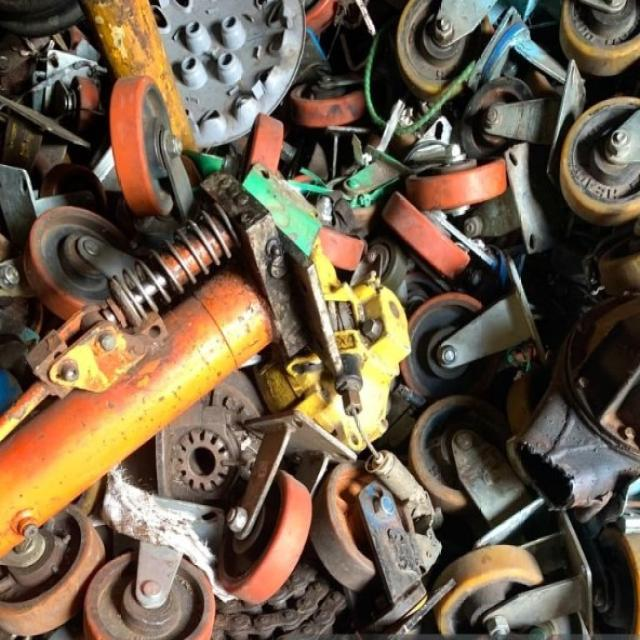Shock-Absorbers: (0, 201, 240, 447)
